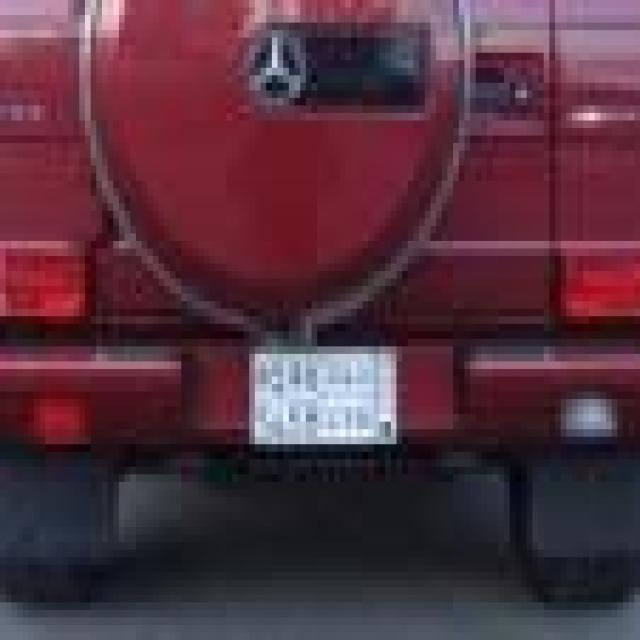license_plate: (251, 334, 404, 474)
